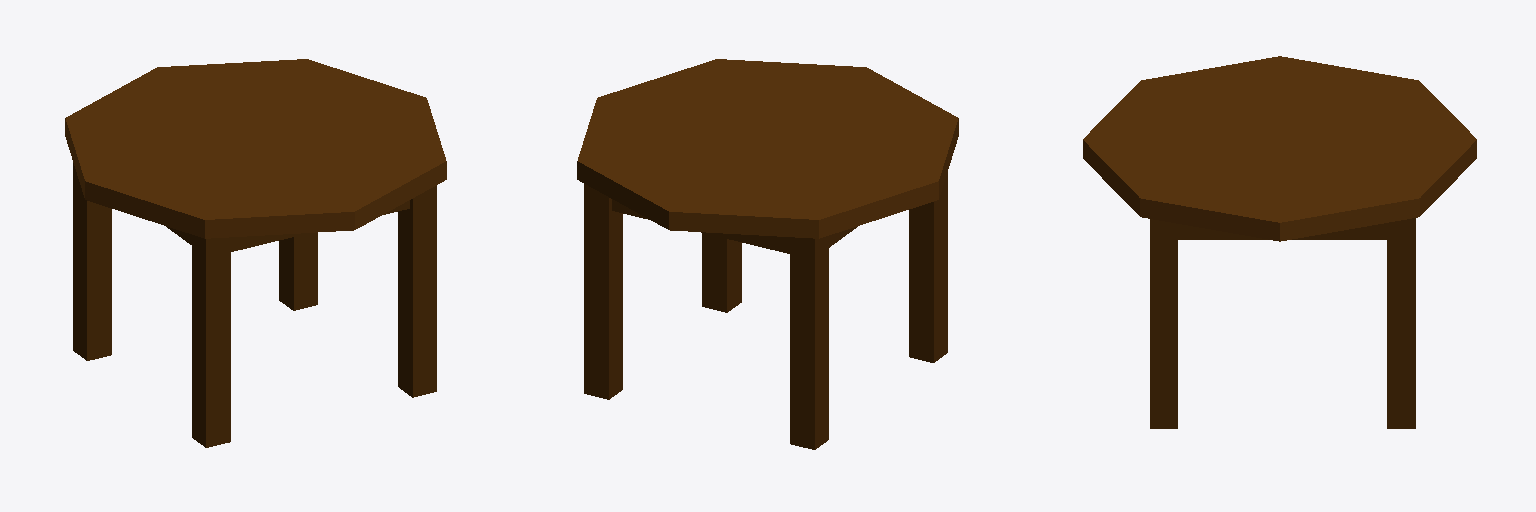
The model's file is Table_Texture.obj.
3 renders of one model, left to right at view 1: azimuth 30°, elevation 25°; view 2: azimuth 150°, elevation 25°; view 3: azimuth 270°, elevation 25°, orthographic.
Visible parts, largest first — view 1: pCylinder2; view 2: pCylinder2; view 3: pCylinder2.
Part boxes in pixels (x1,y1,x2,y2): pCylinder2: (65,59,446,447); pCylinder2: (577,59,958,449); pCylinder2: (1083,56,1476,428).
Bounding box in the file's own units: 110 × 71.95 × 110.